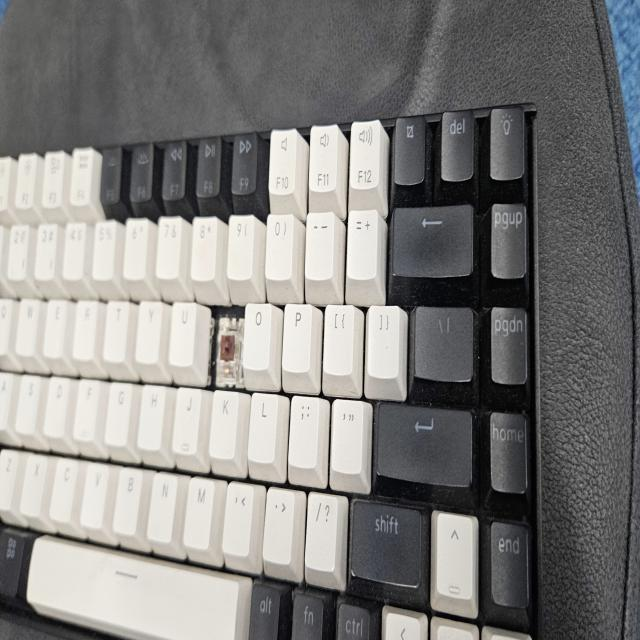C: (216, 314, 236, 384)
